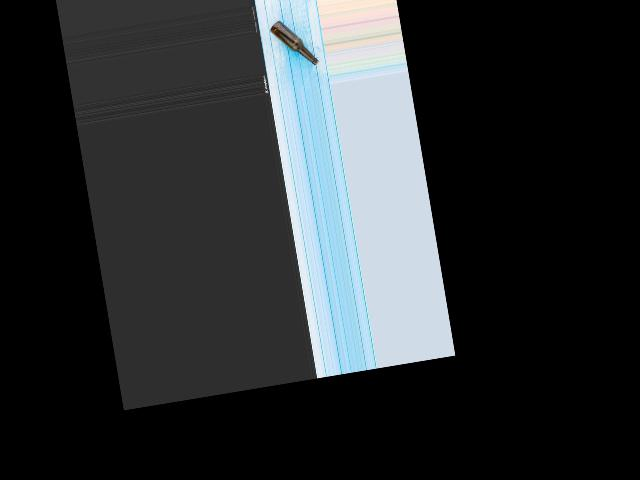beer: (267, 14, 319, 71)
